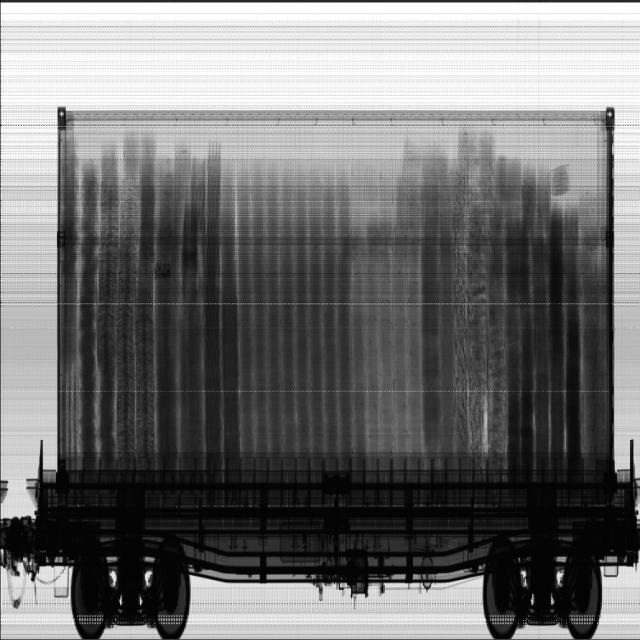shoes: (449, 122, 508, 453), (96, 177, 156, 460)
textiles: (236, 144, 450, 452)
